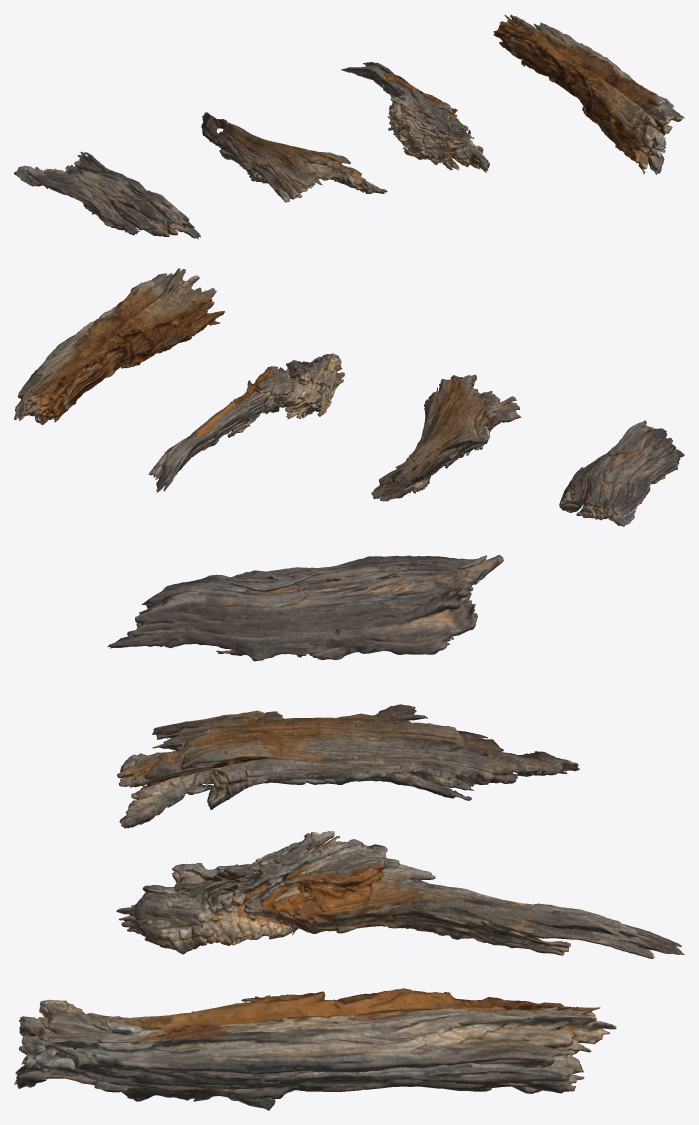
The model's file is bark_debris_01.glb.
3 renders of one model, top to bottom at view 1: azimuth 30°, elevation 25°; view 2: azimuth 150°, elevation 25°; view 3: azimuth 270°, elevation 25°, orthographic. The views are drawn at different scales.
Parts seen in each view (by area): view 1: bark_debris_01_d, bark_debris_01_a, bark_debris_01_b, bark_debris_01_c; view 2: bark_debris_01_d, bark_debris_01_b, bark_debris_01_c, bark_debris_01_a; view 3: bark_debris_01_d, bark_debris_01_c, bark_debris_01_a, bark_debris_01_b.
Part boxes in pixels (x1=…): bark_debris_01_d: x1=493, y1=14, x2=684, y2=174; bark_debris_01_a: x1=14, y1=151, x2=200, y2=239; bark_debris_01_b: x1=201, y1=112, x2=387, y2=202; bark_debris_01_c: x1=341, y1=62, x2=489, y2=172; bark_debris_01_d: x1=14, y1=268, x2=224, y2=424; bark_debris_01_b: x1=371, y1=374, x2=520, y2=501; bark_debris_01_c: x1=148, y1=353, x2=345, y2=492; bark_debris_01_a: x1=559, y1=420, x2=684, y2=526; bark_debris_01_d: x1=14, y1=988, x2=616, y2=1110; bark_debris_01_c: x1=116, y1=831, x2=684, y2=958; bark_debris_01_a: x1=108, y1=555, x2=503, y2=661; bark_debris_01_b: x1=117, y1=704, x2=579, y2=828.
Size of the model in its own units: 1.21 by 0.1122 by 0.6745.
Materials: 1 (1 with a texture image).
